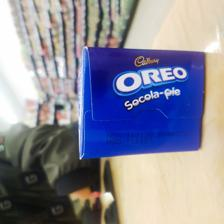Oreo: (75, 44, 206, 160)
